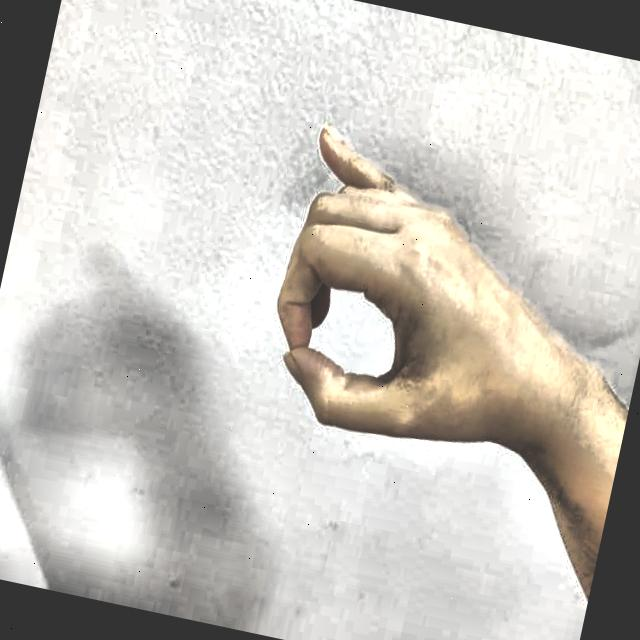Ou: (223, 89, 593, 498)
